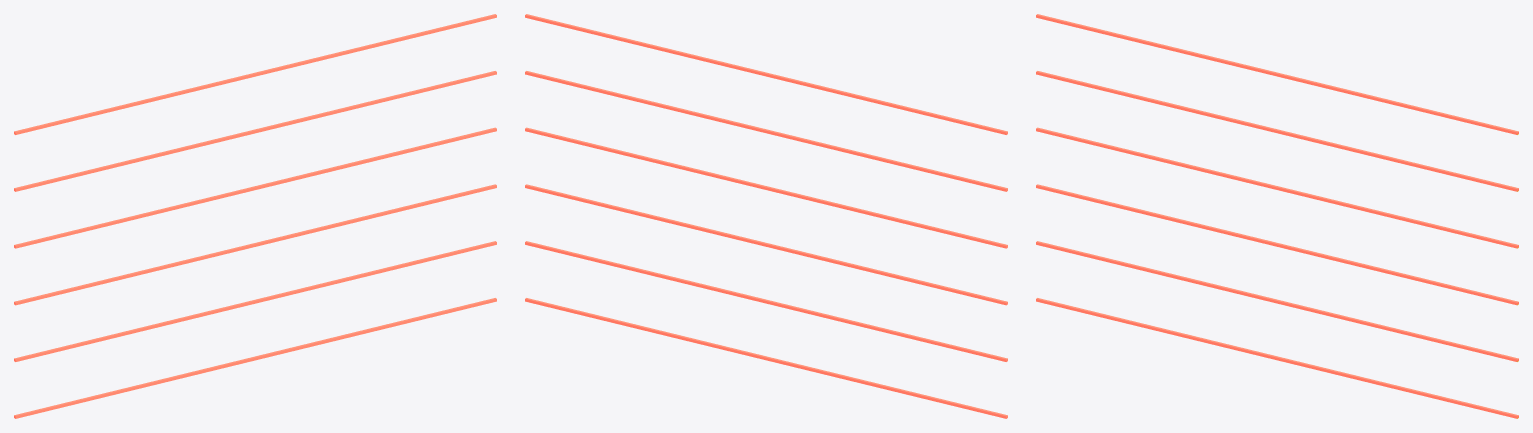
File: Laser.fbx
3 views of the same model, side by side, from view 1: azimuth 30°, elevation 25°; view 2: azimuth 150°, elevation 25°; view 3: azimuth 330°, elevation 25° (orthographic).
Visible parts, largest first — view 1: Cube.021; view 2: Cube.021; view 3: Cube.021.
Part boxes in pixels (box(x1,y1,x2,y2)): Cube.021: box(14, 14, 496, 418); Cube.021: box(525, 14, 1007, 418); Cube.021: box(1036, 14, 1518, 418).
Size of the model in its own units: 758 by 431 by 3.98.
